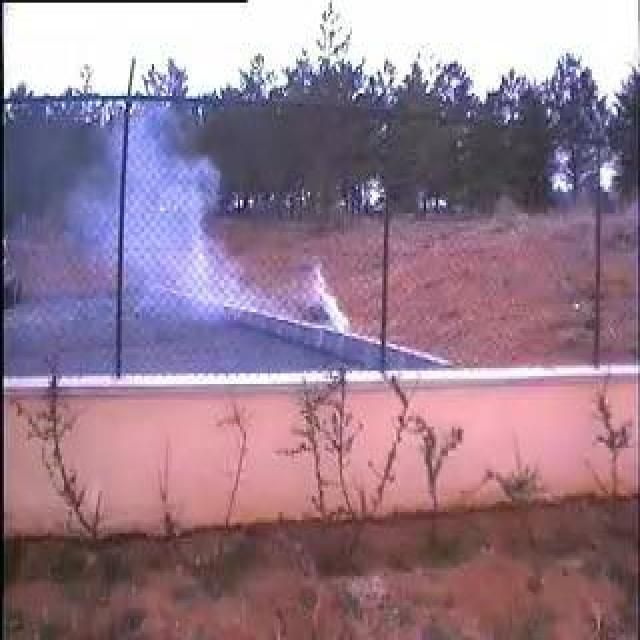Smoke: (69, 118, 279, 310)
